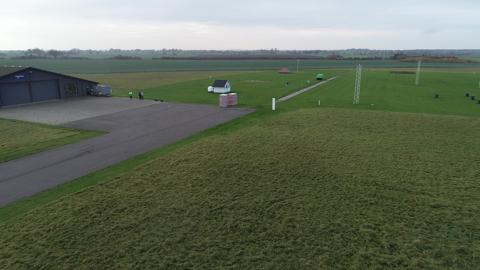RockwoolPallet: (226, 93, 238, 105)
